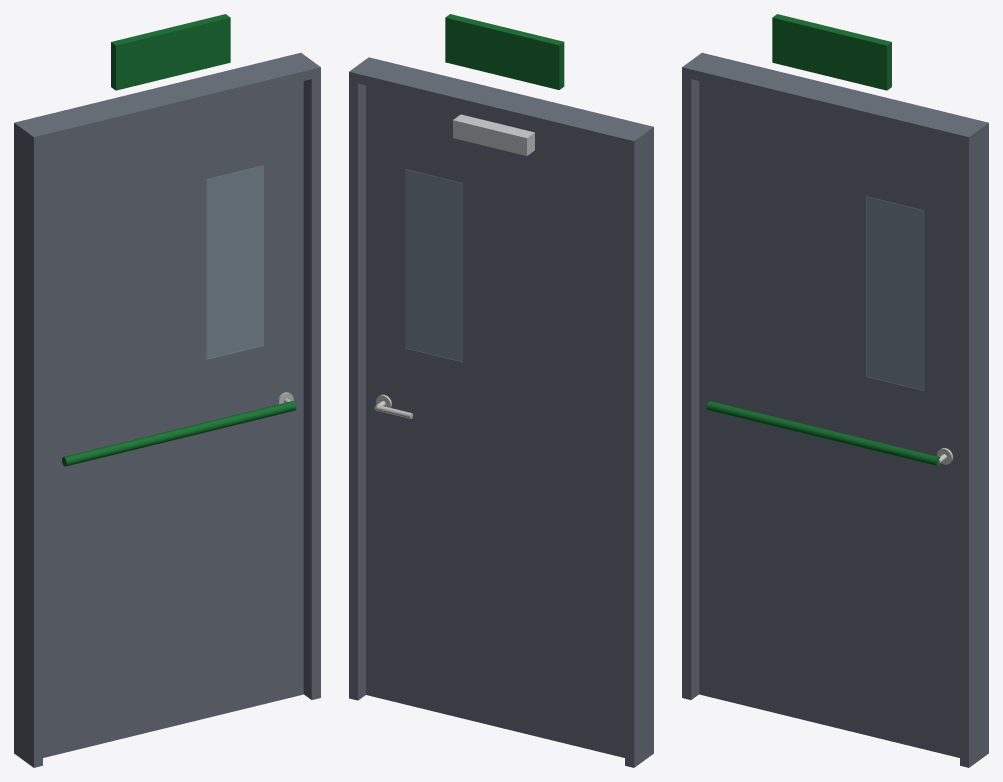
The model's file is opening.door.fire_exit.glb.
3 views of the same model, side by side, from view 1: azimuth 30°, elevation 25°; view 2: azimuth 150°, elevation 25°; view 3: azimuth 330°, elevation 25° (orthographic).
Visible parts, largest first — view 1: leaf__steel_painted, frame__steel_painted, leaf__glass, ironmongery__plastic_green; view 2: leaf__steel_painted, frame__steel_painted, leaf__glass, ironmongery__plastic_green, ironmongery__aluminium; view 3: leaf__steel_painted, frame__steel_painted, leaf__glass, ironmongery__plastic_green.
Boxes of the visible parts, x1=… form: leaf__steel_painted: x1=43, y1=81, x2=303, y2=757; frame__steel_painted: x1=14, y1=52, x2=320, y2=767; leaf__glass: x1=206, y1=165, x2=263, y2=359; ironmongery__plastic_green: x1=62, y1=14, x2=296, y2=466; leaf__steel_painted: x1=366, y1=85, x2=624, y2=757; frame__steel_painted: x1=349, y1=57, x2=653, y2=767; leaf__glass: x1=406, y1=169, x2=462, y2=361; ironmongery__plastic_green: x1=445, y1=14, x2=564, y2=89; ironmongery__aluminium: x1=453, y1=114, x2=534, y2=155; leaf__steel_painted: x1=699, y1=81, x2=959, y2=757; frame__steel_painted: x1=682, y1=52, x2=988, y2=767; leaf__glass: x1=866, y1=197, x2=923, y2=390; ironmongery__plastic_green: x1=706, y1=14, x2=940, y2=466.
Bounding box in the file's own units: 1 × 2.33 × 0.159.
